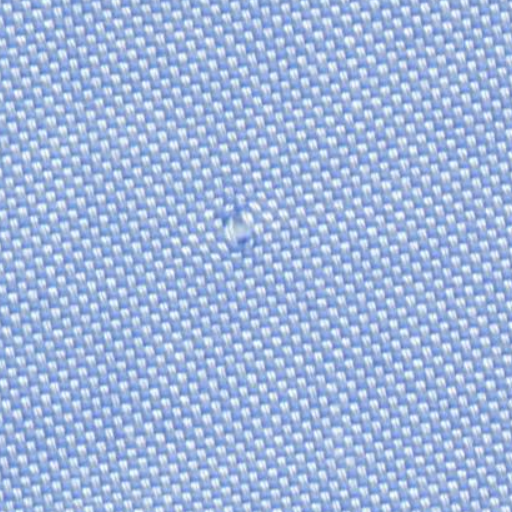PoDong: (198, 186, 280, 267)
